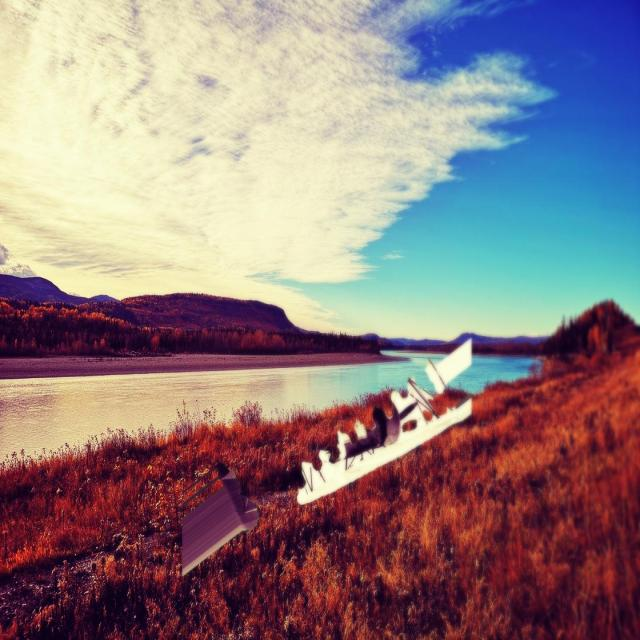airplane: (295, 337, 473, 506)
